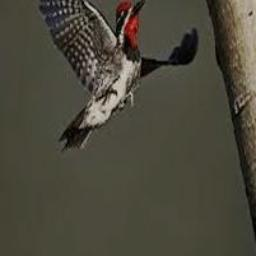Woodpecker: (33, 0, 197, 152)
